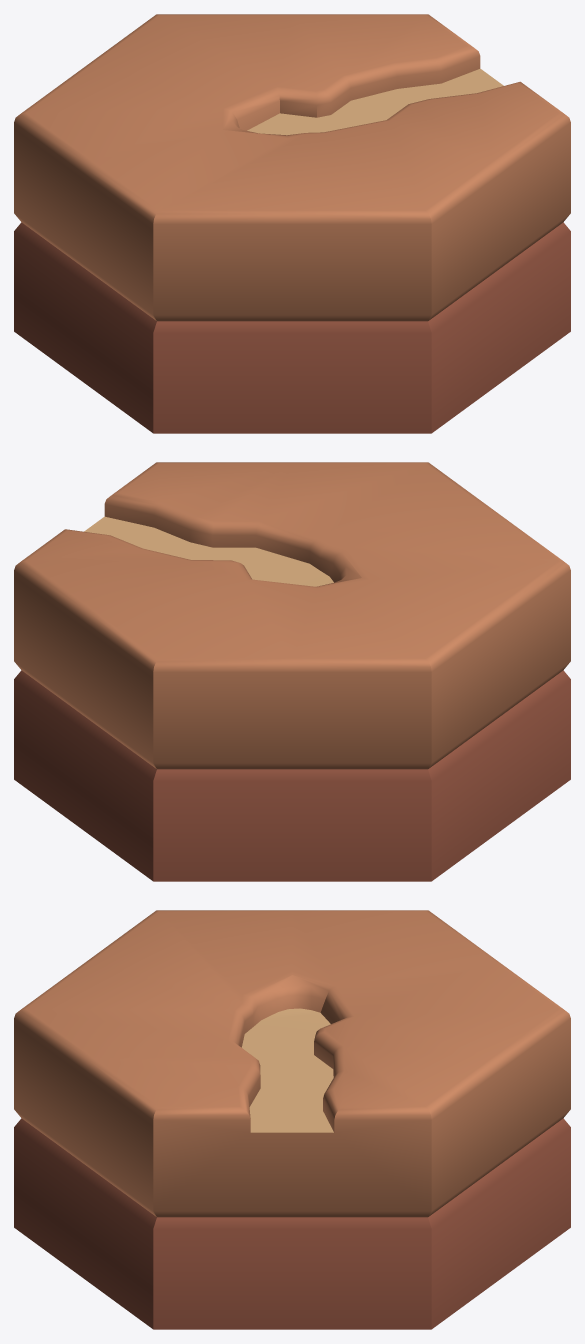
Rendered from hex_rock_roadA_detail.glb.
The picture shows the model from 3 angles, top to bottom: view 1: azimuth 30°, elevation 25°; view 2: azimuth 150°, elevation 25°; view 3: azimuth 270°, elevation 25°; orthographic projection.
Parts seen in each view (by area): view 1: hex_rock_roadA_detail; view 2: hex_rock_roadA_detail; view 3: hex_rock_roadA_detail.
Part boxes in pixels (left/top/right/bottom): hex_rock_roadA_detail: left=14, top=14, right=570, bottom=433; hex_rock_roadA_detail: left=14, top=462, right=570, bottom=881; hex_rock_roadA_detail: left=14, top=910, right=570, bottom=1329.
Bounding box in the file's own units: 2 × 1 × 2.31.
